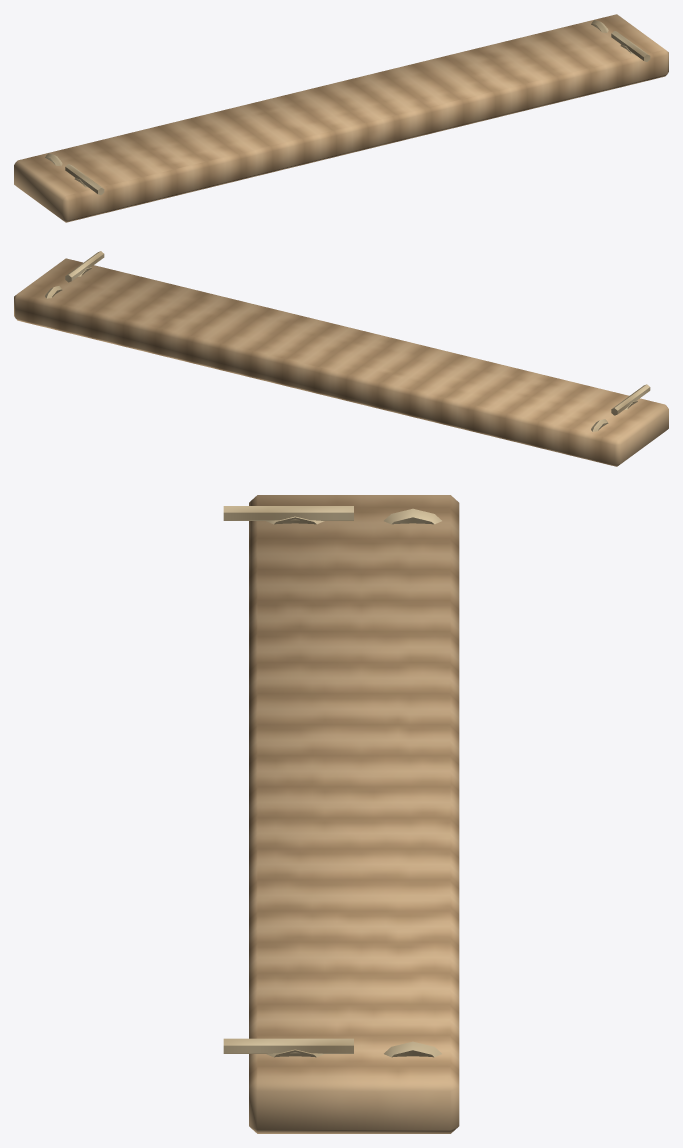
File: bridge_plank.gltf
3 views of the same model, one above another, from view 1: azimuth 30°, elevation 25°; view 2: azimuth 150°, elevation 25°; view 3: azimuth 270°, elevation 25° (orthographic). The views are drawn at different scales.
Visible parts, largest first — view 1: bridge_plank; view 2: bridge_plank; view 3: bridge_plank.
Boxes of the visible parts, x1,y1,x2,y2 form: bridge_plank: (14,14,668,222); bridge_plank: (14,251,668,466); bridge_plank: (223,495,459,1133).
Bounding box in the file's own units: 2 × 0.1285 × 0.336.
1 material, 1 textured.
